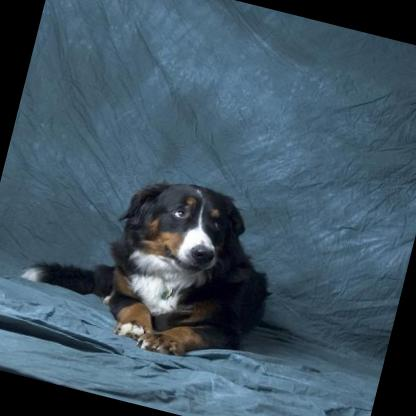Bernese_mountain_dog: (7, 147, 293, 374)
